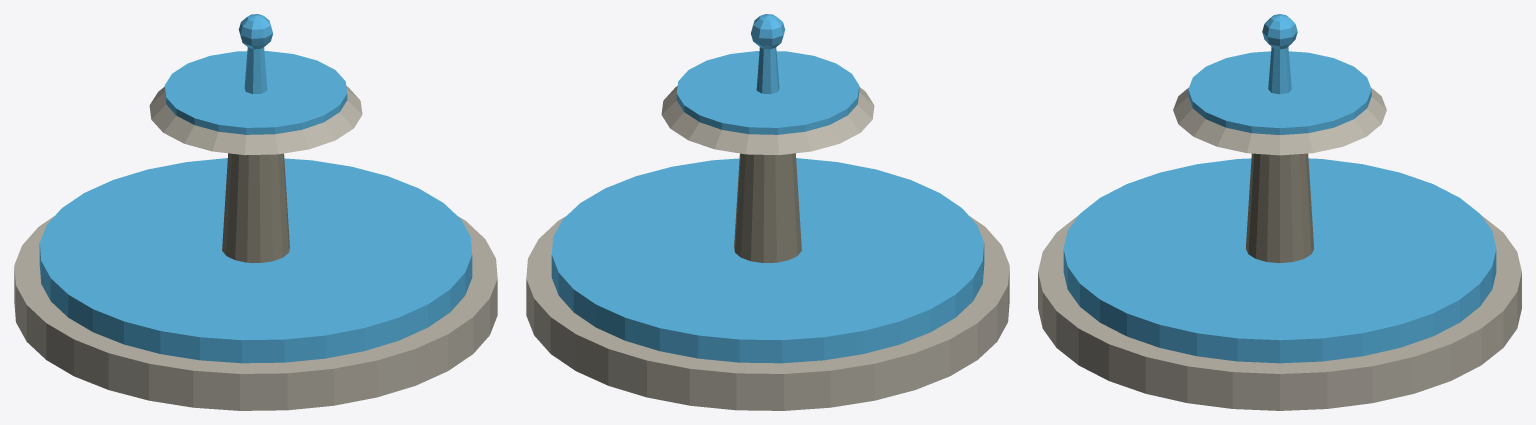
Rendered from fountain.glb.
The picture shows the model from 3 angles, left to right: view 1: azimuth 30°, elevation 25°; view 2: azimuth 150°, elevation 25°; view 3: azimuth 270°, elevation 25°; orthographic projection.
Visible parts, largest first — view 1: fountain; view 2: fountain; view 3: fountain.
Boxes of the visible parts, bbox=[...] form: fountain: bbox=[14, 14, 497, 410]; fountain: bbox=[526, 14, 1009, 410]; fountain: bbox=[1038, 14, 1521, 410].
Size of the model in its own units: 1.9 by 1.27 by 1.9.
